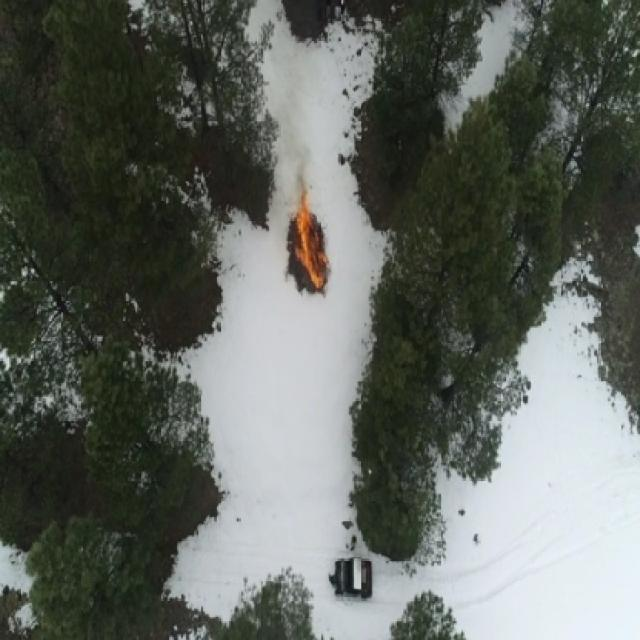Fire: (288, 188, 330, 292)
